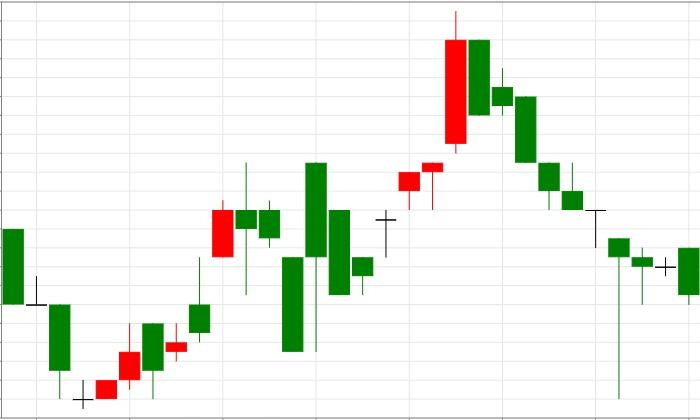hammer_rise: (469, 39, 629, 399)
